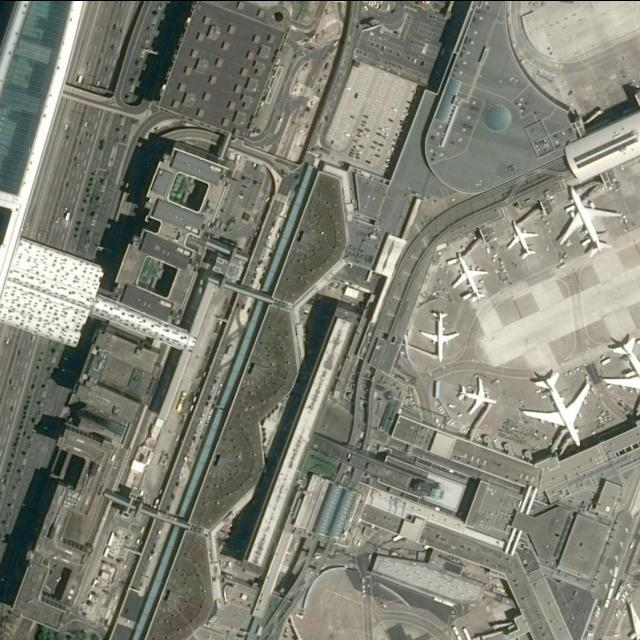Aircraft: (518, 366, 591, 446), (555, 182, 623, 258), (600, 330, 640, 412), (416, 305, 461, 361), (448, 248, 490, 302), (455, 373, 497, 415), (503, 216, 537, 260), (609, 594, 640, 640)
